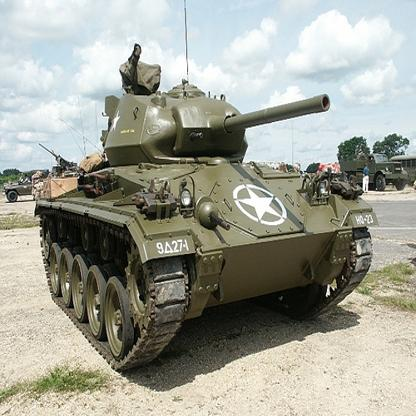Tank: (34, 64, 376, 372)
